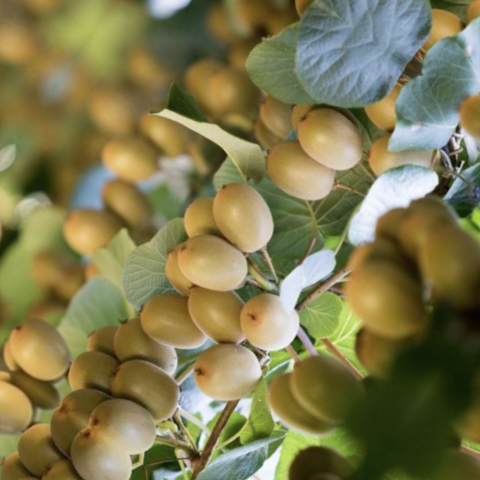kiwi: (83, 335, 200, 446), (188, 167, 305, 277), (249, 122, 355, 224), (175, 324, 275, 423), (169, 214, 269, 311), (281, 92, 380, 184), (0, 305, 90, 398)
